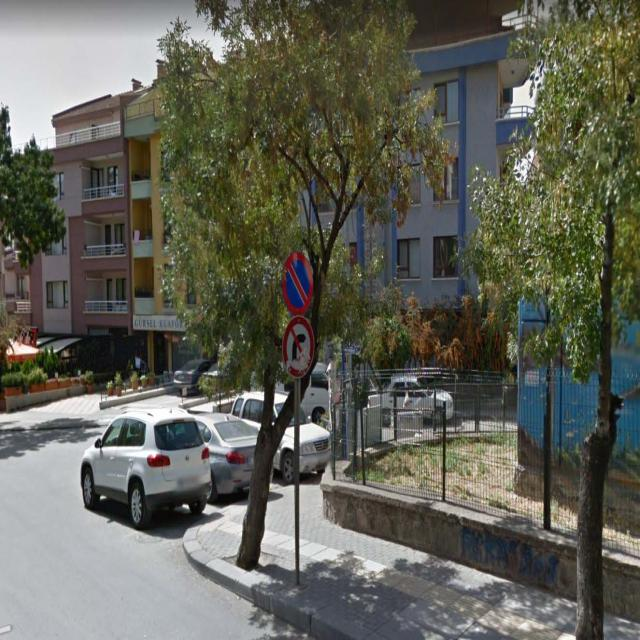parkyasak: (281, 253, 314, 316)
sagadonulmez: (282, 317, 315, 377)
